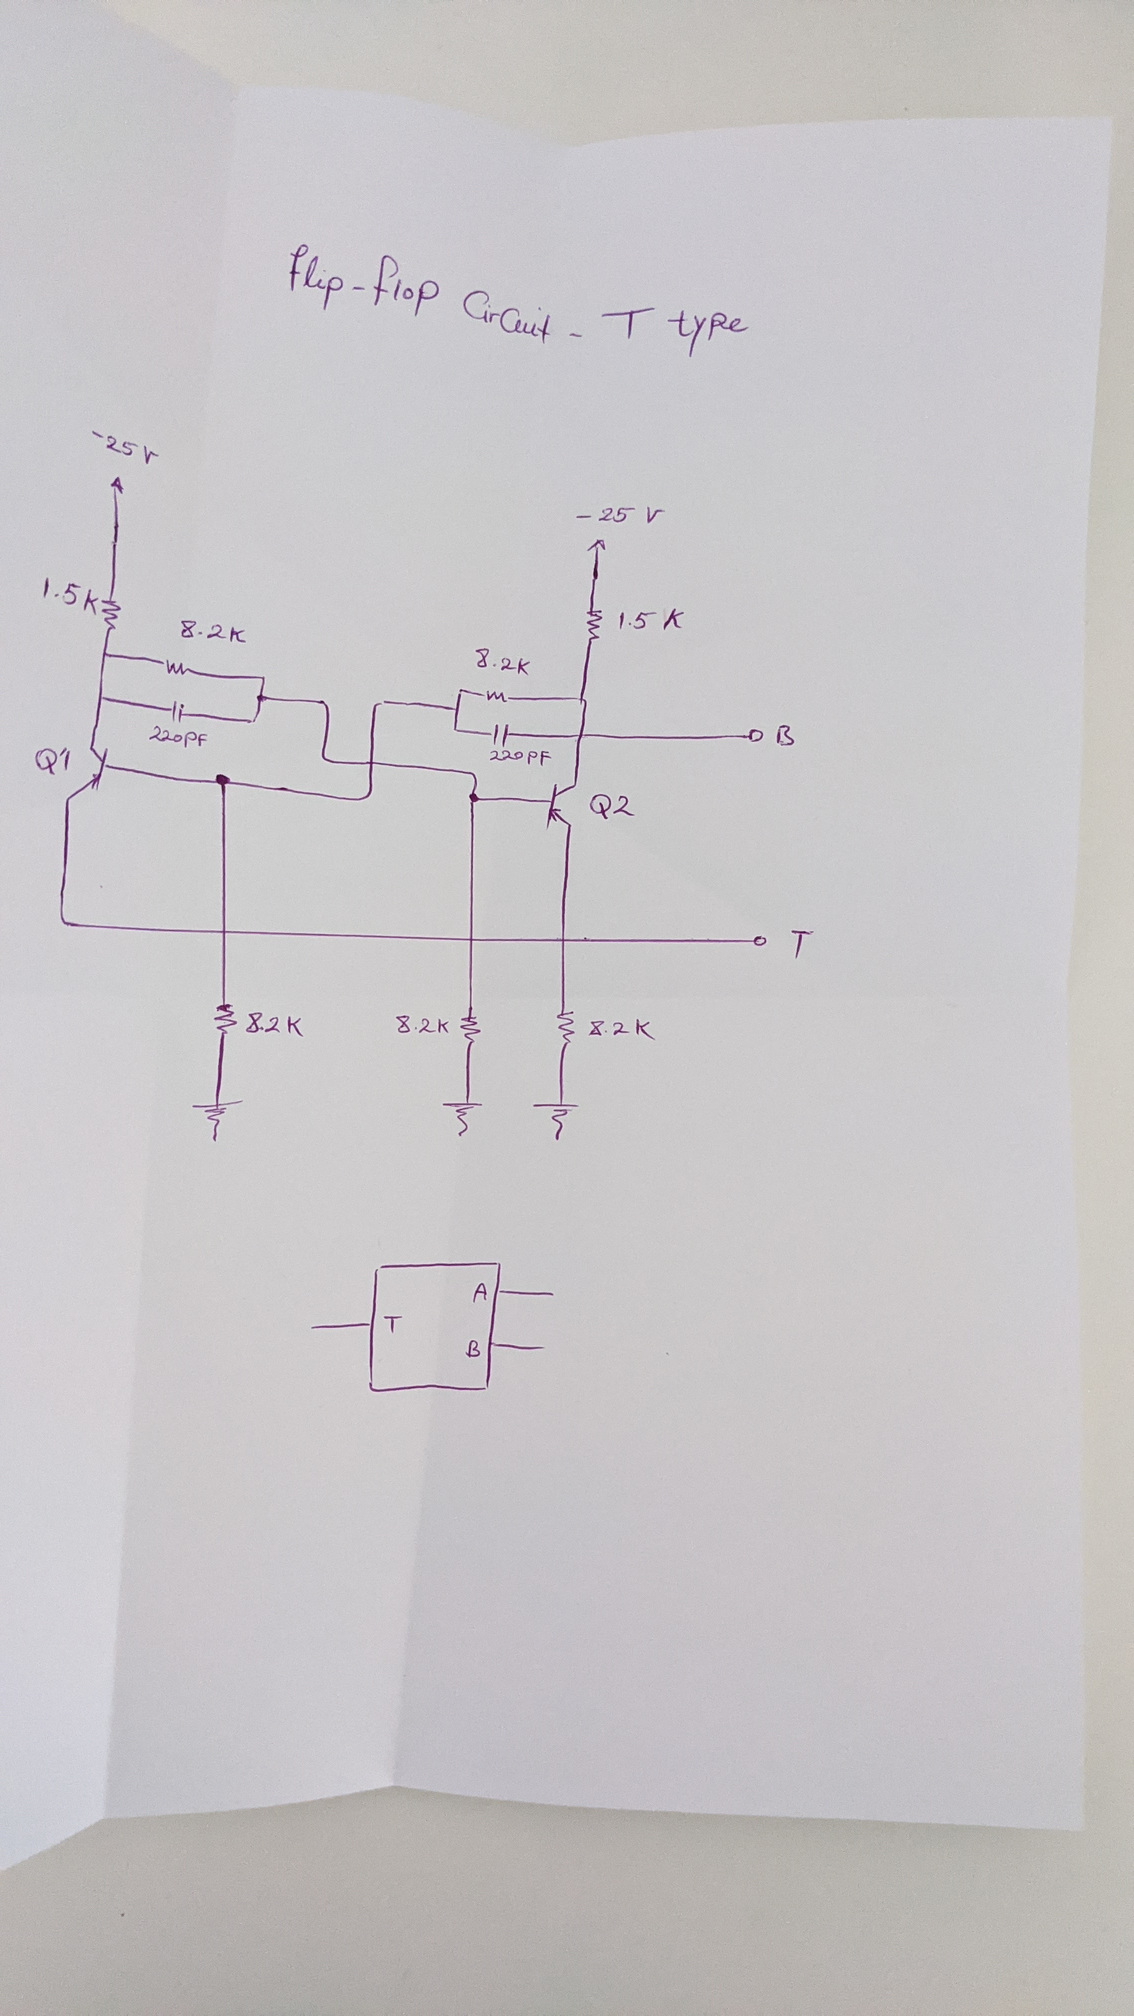capacitor.unpolarized: (487, 721, 514, 750), (166, 698, 187, 726)
crossover: (217, 926, 233, 939), (573, 730, 588, 741), (465, 935, 479, 946), (366, 757, 378, 768), (557, 935, 570, 944)
gnd: (188, 1097, 246, 1144), (530, 1098, 582, 1144), (439, 1097, 487, 1140)
integrated_circuit: (366, 1259, 503, 1394)
junction: (215, 773, 233, 788), (371, 698, 388, 712), (573, 694, 590, 708), (361, 789, 375, 803), (467, 791, 480, 804), (57, 912, 69, 928), (246, 714, 259, 727), (96, 692, 108, 705), (318, 698, 332, 709), (255, 692, 269, 703), (320, 752, 331, 764), (456, 685, 467, 696), (258, 673, 269, 683), (100, 649, 111, 659), (451, 703, 462, 713), (468, 770, 479, 780), (451, 726, 460, 734)
resistor: (212, 1001, 238, 1038), (554, 1008, 577, 1050), (100, 597, 123, 633), (460, 1014, 483, 1048), (159, 656, 192, 678), (584, 606, 604, 642), (480, 688, 515, 705)
terminal: (746, 726, 766, 744), (752, 935, 768, 948), (546, 1289, 558, 1300), (307, 1322, 318, 1333), (537, 1342, 548, 1353)
text: (287, 241, 753, 360), (89, 426, 162, 467), (39, 573, 101, 618), (575, 503, 667, 528), (179, 616, 251, 647), (474, 644, 534, 678), (616, 605, 688, 631), (587, 1018, 658, 1044), (244, 1009, 307, 1038), (145, 723, 209, 750), (587, 791, 637, 821), (30, 744, 73, 778), (395, 1012, 451, 1037), (487, 748, 552, 768), (786, 928, 816, 961), (774, 721, 798, 749), (381, 1313, 406, 1335), (462, 1338, 482, 1360), (471, 1281, 489, 1304)
transistor: (64, 745, 109, 803), (544, 781, 580, 829)
vss: (584, 534, 611, 557), (108, 474, 132, 496)
